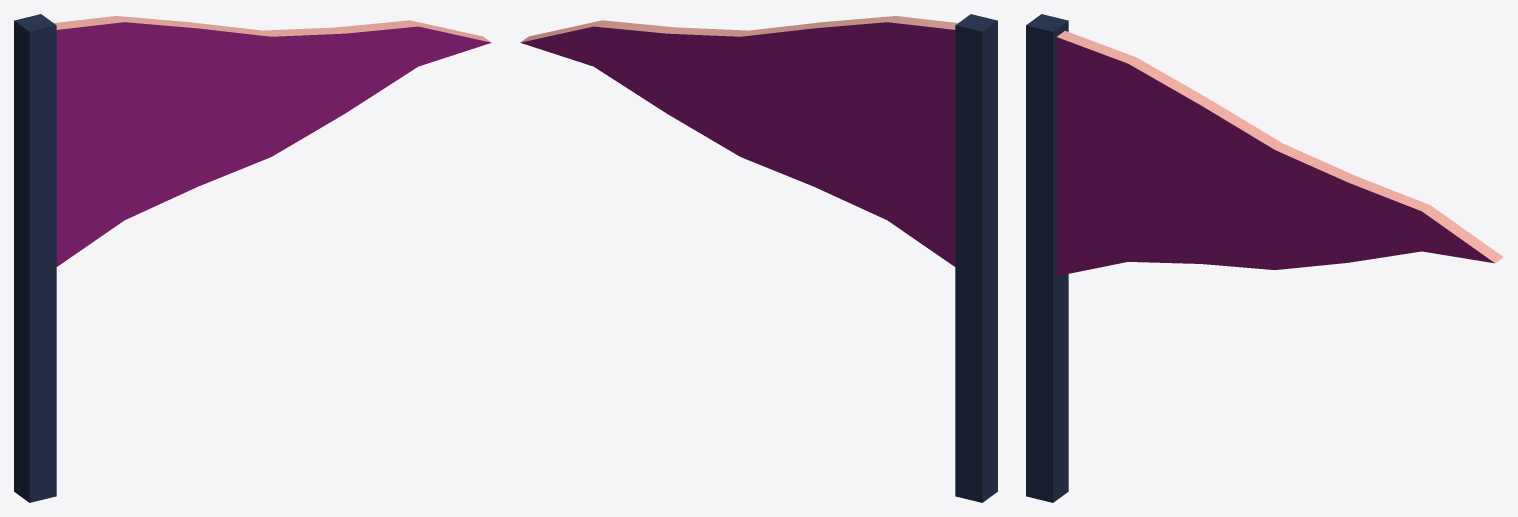
The model's file is flagD.fbx.
3 renders of one model, left to right at view 1: azimuth 30°, elevation 25°; view 2: azimuth 150°, elevation 25°; view 3: azimuth 330°, elevation 25°, orthographic.
Parts seen in each view (by area): view 1: flagD; view 2: flagD; view 3: flagD.
Part boxes in pixels (bbox=[...]): flagD: bbox=[14, 14, 491, 502]; flagD: bbox=[520, 14, 997, 502]; flagD: bbox=[1026, 14, 1503, 502].
Size of the model in its own units: 148 by 143 by 8.47.
Materials: 1 (1 with a texture image).
